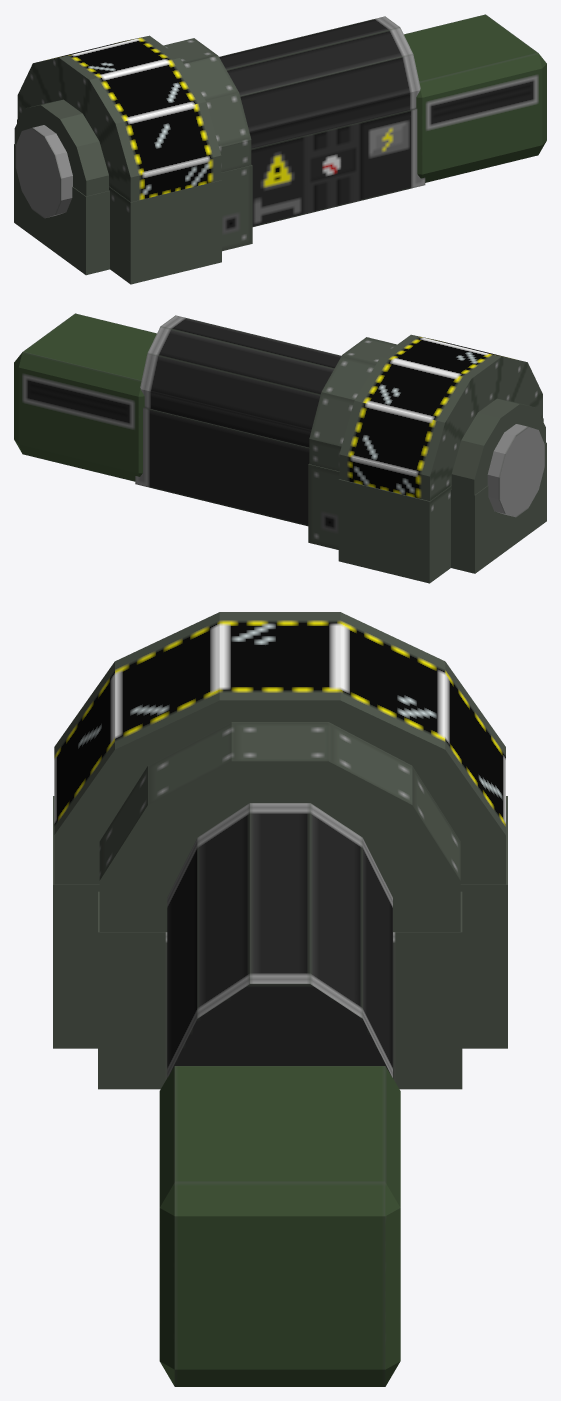
Rendered from leviathan_turbine.obj.
The picture shows the model from 3 angles, top to bottom: view 1: azimuth 30°, elevation 25°; view 2: azimuth 150°, elevation 25°; view 3: azimuth 270°, elevation 25°; orthographic projection. The views are drawn at different scales.
Visible parts, largest first — view 1: cylinder; view 2: cylinder; view 3: cylinder.
Part boxes in pixels (box(x1,y1,x2,y2)): cylinder: box(14, 14, 546, 284); cylinder: box(14, 313, 546, 583); cylinder: box(53, 612, 507, 1386).
Bounding box in the file's own units: 9.24 × 3.38 × 3.78.
